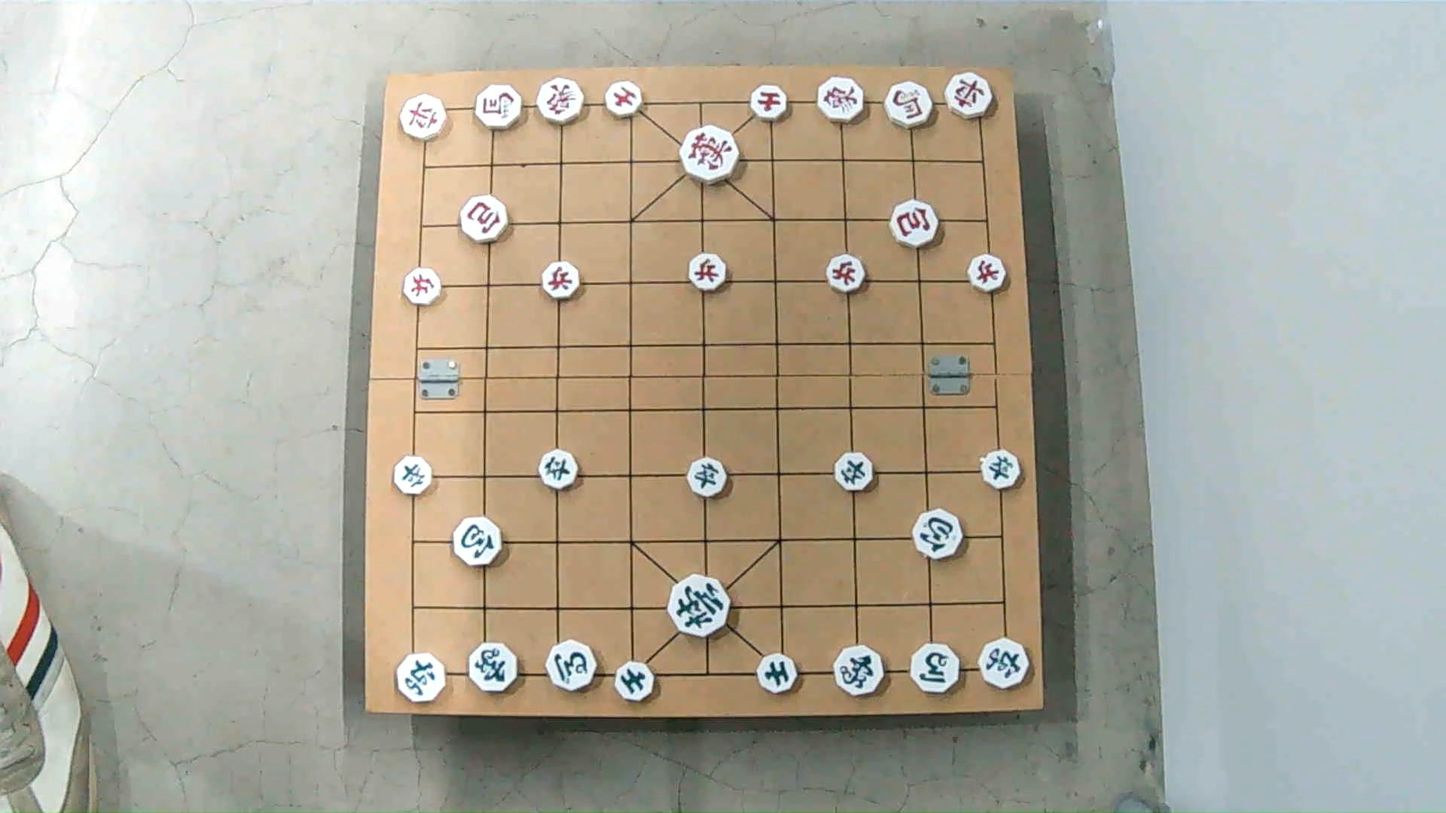cha_green: (976, 642, 1031, 688), (396, 656, 450, 702)
cha_red: (944, 75, 996, 117), (399, 96, 450, 138)
jol_green: (978, 449, 1025, 486), (685, 458, 731, 494), (536, 450, 579, 486), (834, 455, 879, 489), (393, 458, 435, 493)
jol_red: (401, 269, 445, 303), (686, 256, 728, 291), (825, 257, 868, 291), (966, 257, 1008, 291), (541, 264, 583, 298)
ma_green: (545, 641, 598, 687), (911, 646, 966, 690)
ma_red: (883, 84, 937, 126), (472, 87, 522, 128)
po_green: (455, 521, 508, 565), (914, 515, 966, 559)
po_red: (892, 204, 943, 247), (459, 199, 508, 242)
sa_green: (756, 656, 800, 693), (614, 662, 657, 699)
sa_red: (747, 85, 789, 117), (604, 84, 645, 116)
sang_green: (468, 643, 522, 693), (834, 645, 884, 695)
sang_red: (536, 80, 587, 123), (816, 79, 866, 121)
wang_green: (667, 578, 734, 633)
wang_red: (682, 129, 740, 180)
